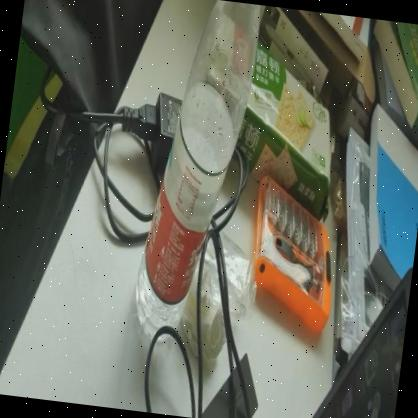bottle: (127, 0, 265, 357)
label: (145, 118, 226, 316)
